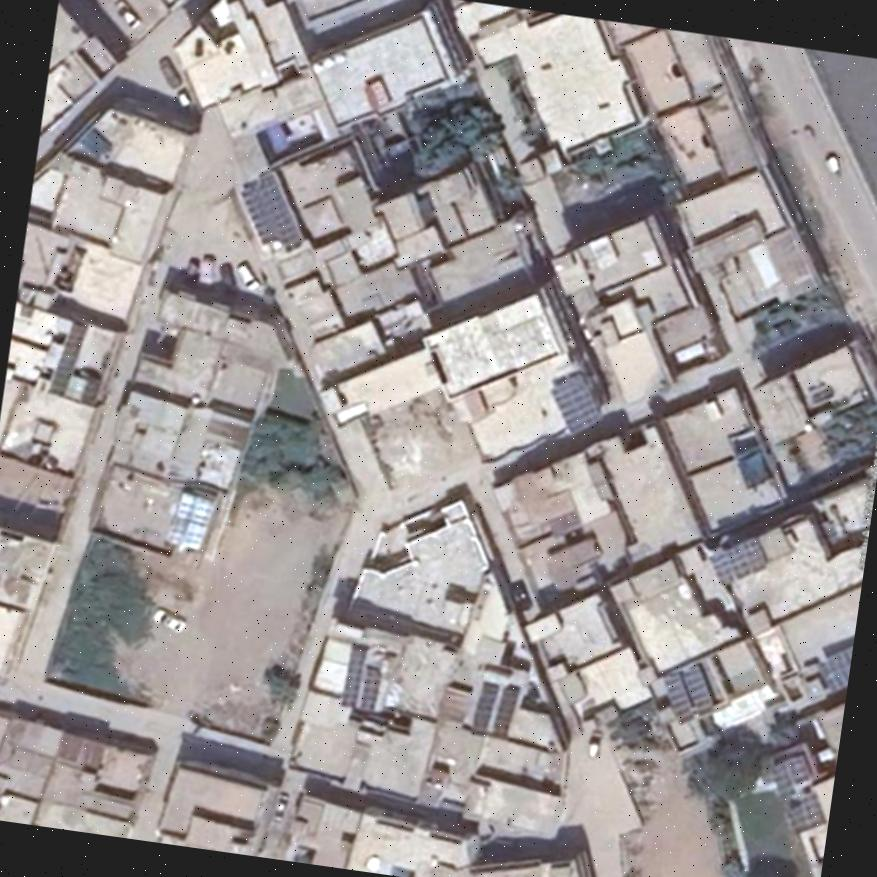Solarpanel: (239, 172, 299, 258), (551, 372, 601, 434), (44, 321, 84, 393), (706, 535, 763, 584), (664, 665, 711, 723), (815, 643, 849, 692), (771, 754, 807, 798), (470, 681, 499, 732), (341, 643, 364, 707), (490, 688, 519, 736), (787, 795, 823, 830), (357, 667, 378, 709)
